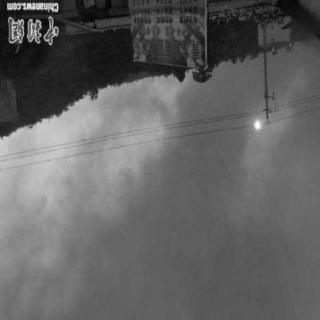Smoke: (148, 82, 234, 266), (240, 139, 318, 307)
other: (253, 117, 265, 136)
